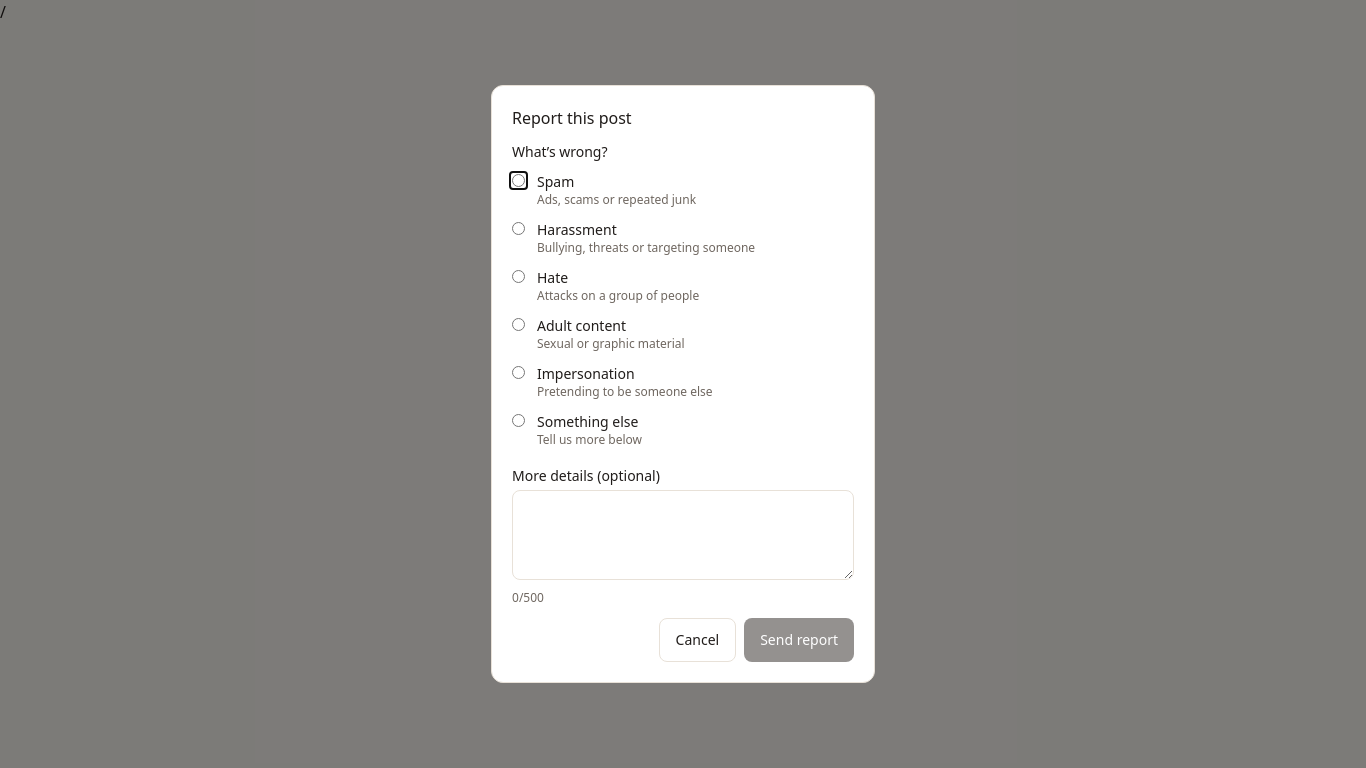
Scenario: ReportDialog › says when the thing is no longer available
Click the radio button labelled "Spam Ads, scams or repeated junk".
click(518, 180)  # box [512, 174, 525, 187]
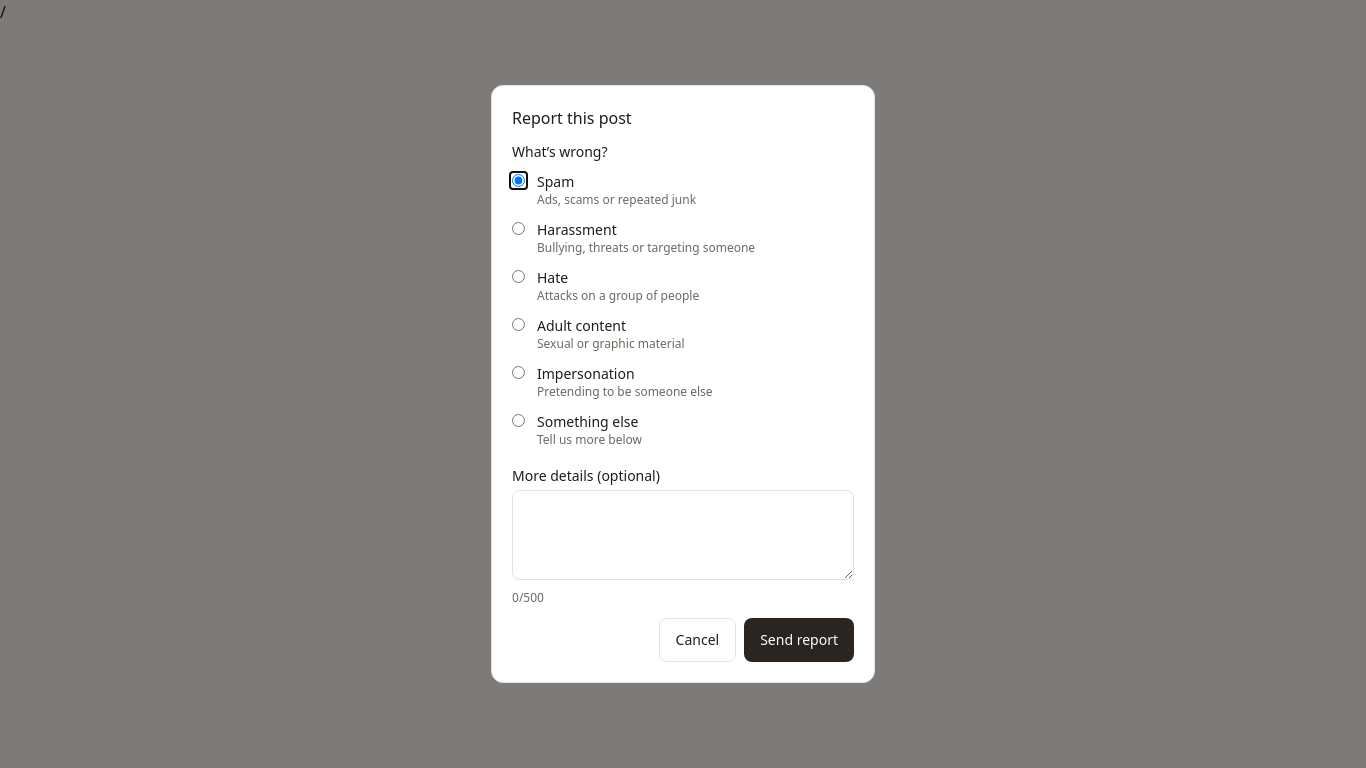
Click the button "Send report".
click(799, 640)  # box [744, 618, 854, 662]
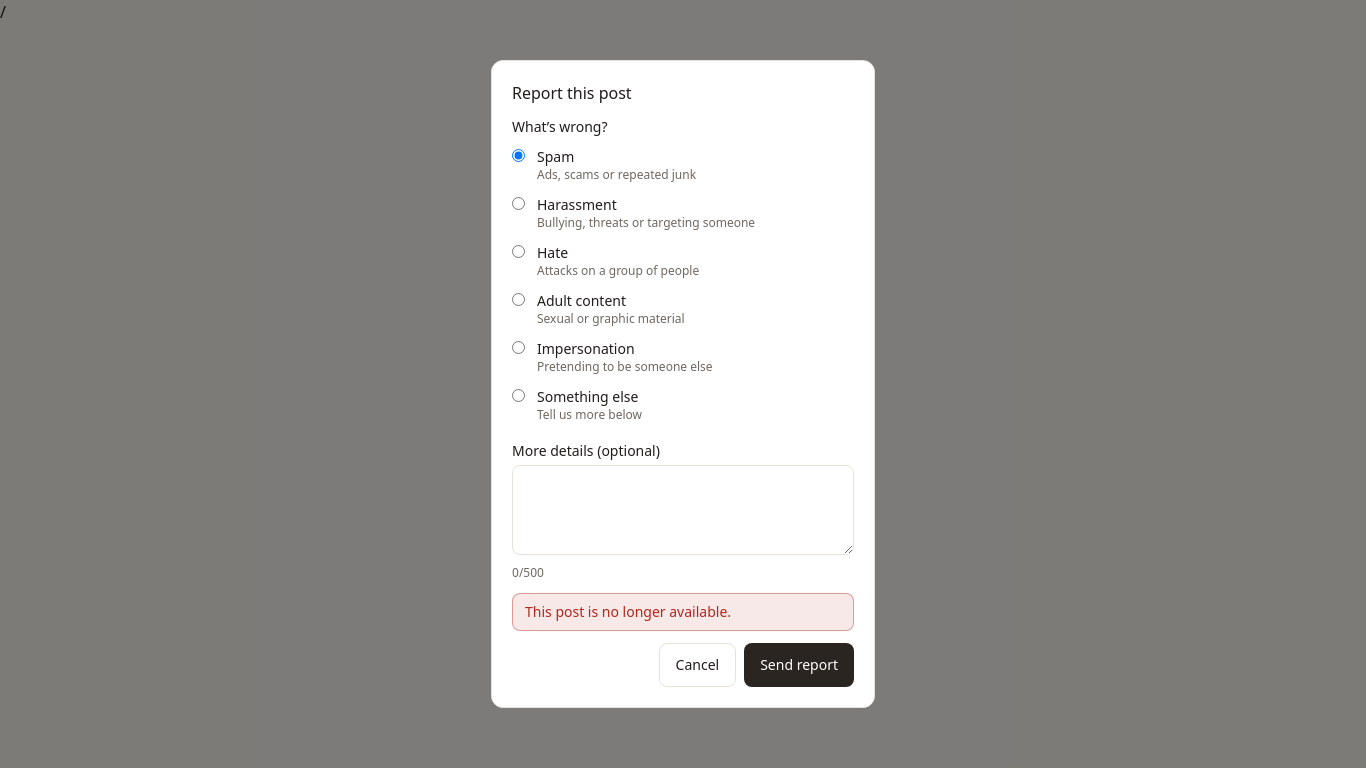
Now the message reads "This post is no longer available.", box [525, 602, 731, 621]
